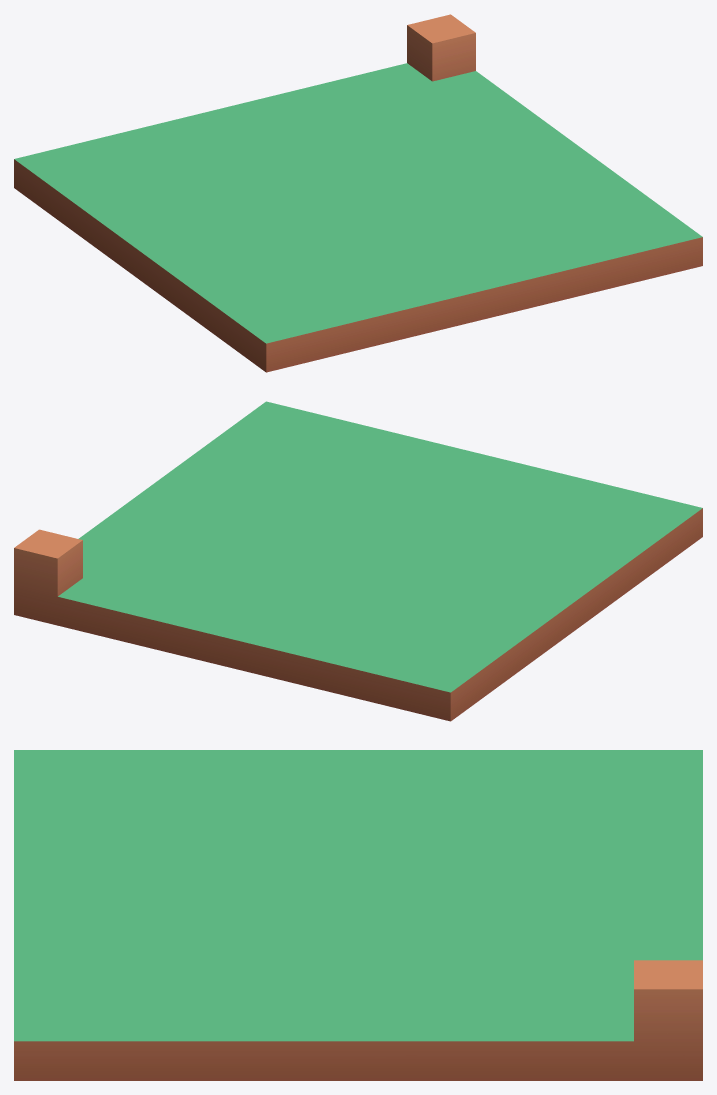
The model's file is inner-corner.glb.
3 renders of one model, top to bottom at view 1: azimuth 30°, elevation 25°; view 2: azimuth 150°, elevation 25°; view 3: azimuth 270°, elevation 25°, orthographic. The views are drawn at different scales.
Parts seen in each view (by area): view 1: inner-corner; view 2: inner-corner; view 3: inner-corner.
Part boxes in pixels (box(x1,y1,x2,y2)): inner-corner: box(14, 14, 702, 372); inner-corner: box(14, 401, 702, 721); inner-corner: box(14, 750, 702, 1080).
Bounding box in the file's own units: 0.9999 × 0.1466 × 0.9999.
Materials: 1 (1 with a texture image).
